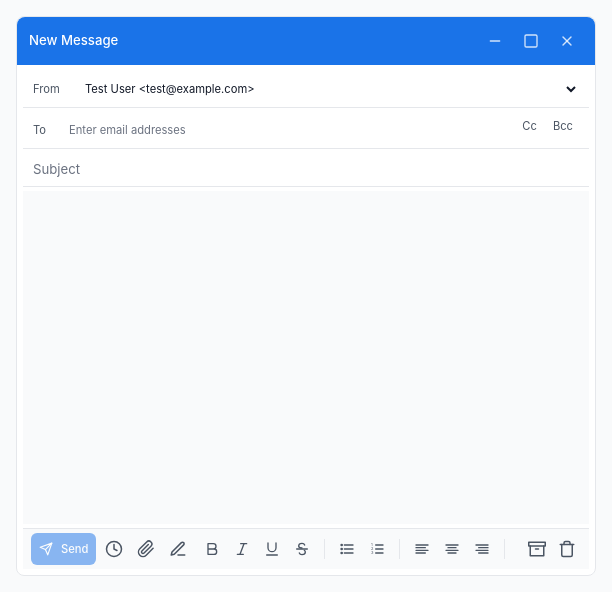
Scenario: ComposeWindow - minimized state › toggles to open when clicked while minimized
Minimize it
Click the button named "Minimize" at (495, 41), box [479,25,511,57]
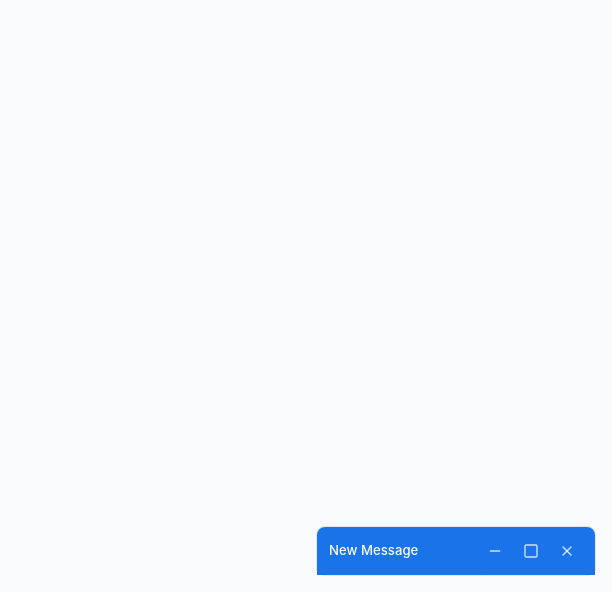
Check: the field with placeholder "Subject" is gone
